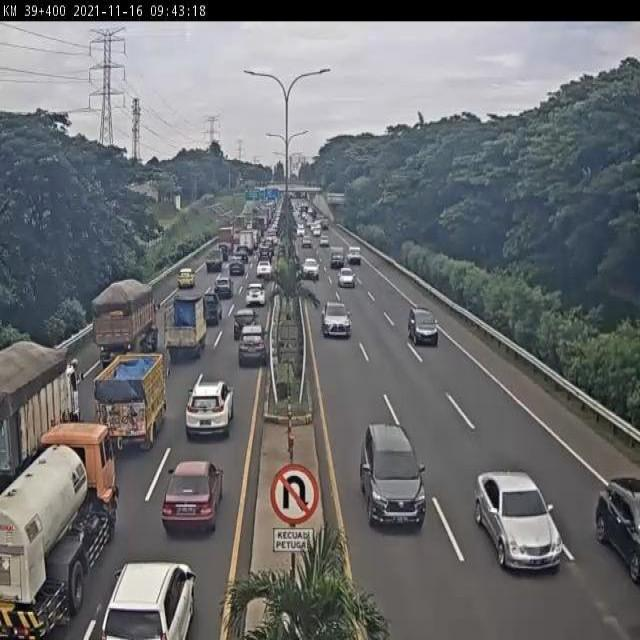car: (473, 471, 565, 573), (101, 560, 196, 640), (360, 421, 427, 531), (160, 459, 224, 541), (185, 381, 235, 443), (237, 320, 269, 368), (407, 306, 440, 346), (321, 301, 352, 339), (196, 292, 220, 328), (233, 307, 257, 340), (244, 280, 267, 308), (212, 275, 235, 301), (177, 265, 195, 292), (338, 266, 356, 290), (302, 256, 320, 277), (227, 254, 244, 274), (255, 258, 272, 278)
small truck: (99, 348, 166, 445), (161, 296, 205, 357), (205, 248, 223, 272)
truck-m-: (0, 418, 120, 640), (2, 344, 87, 491), (94, 280, 157, 368)
